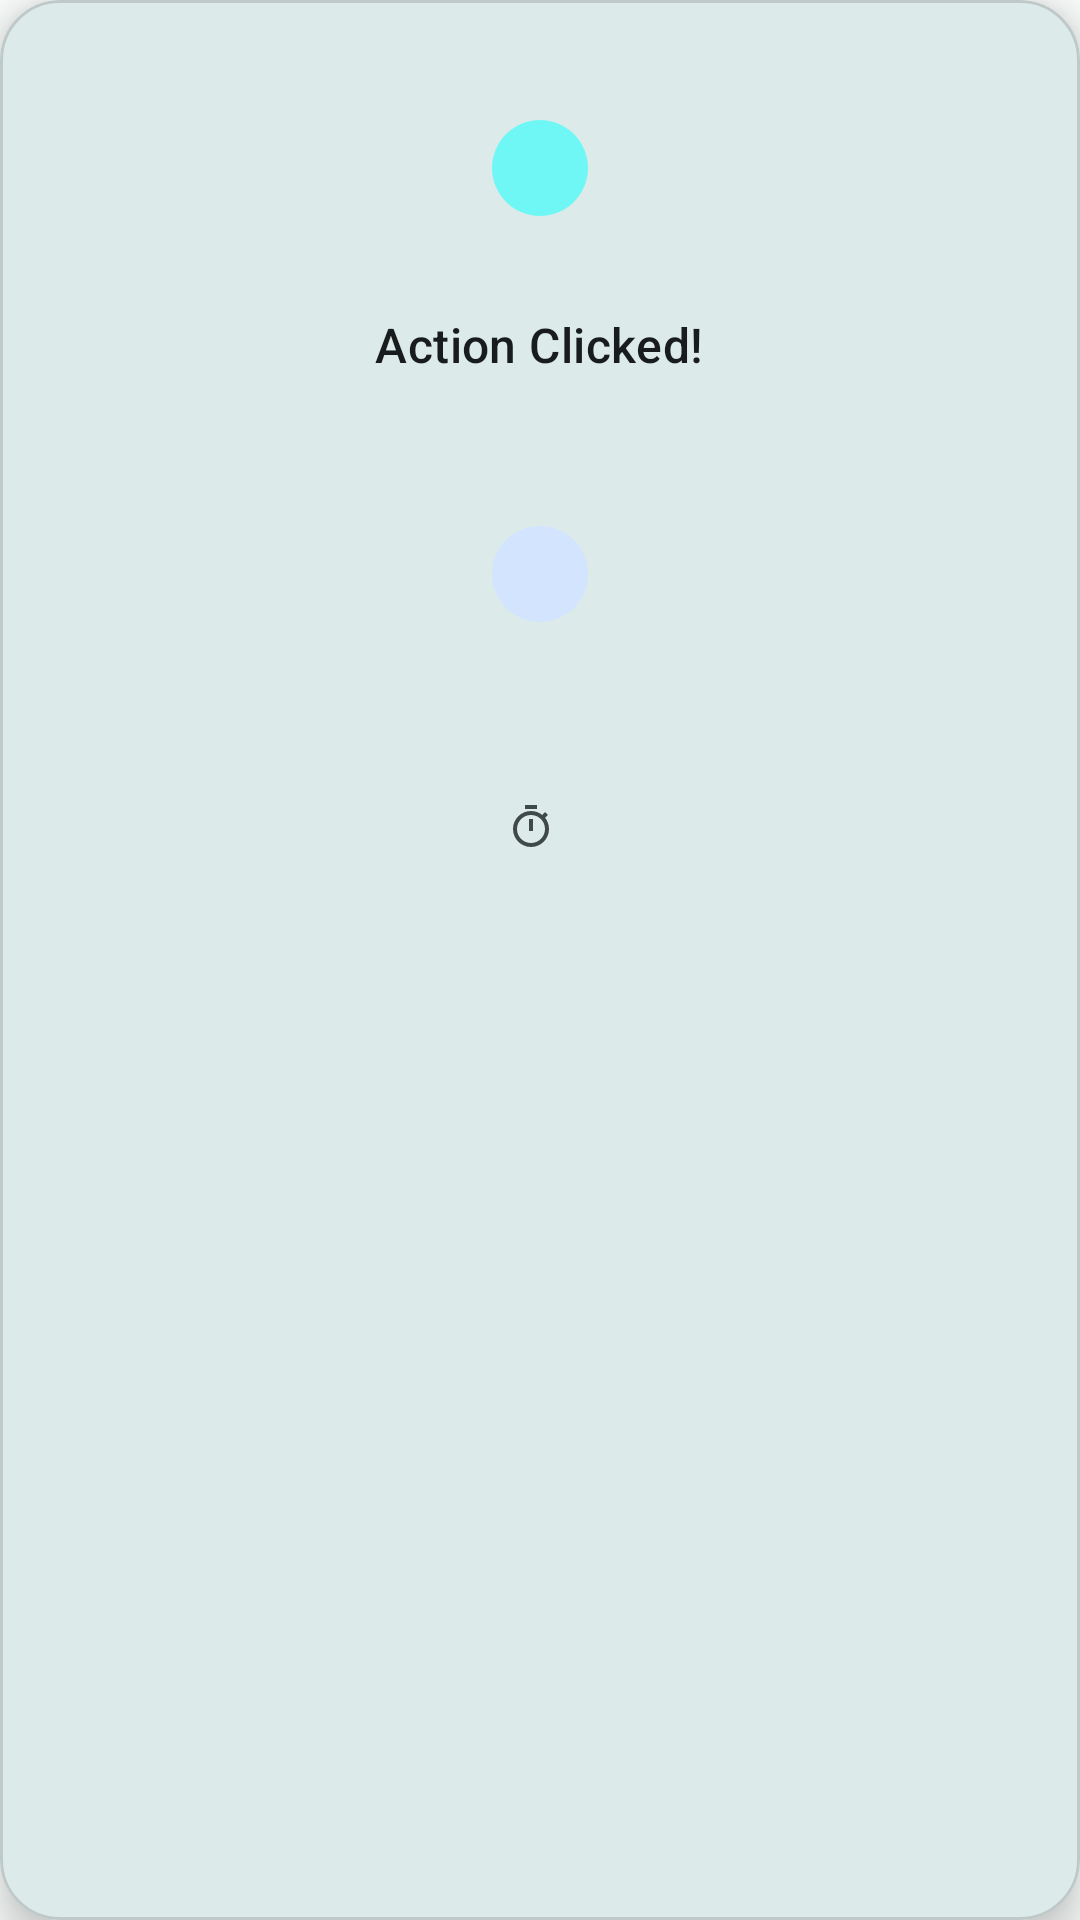

Icon click points for this 1080 x 1920 phone screenshot, format (x=x, y=y):
Timer: (x=531, y=826)
